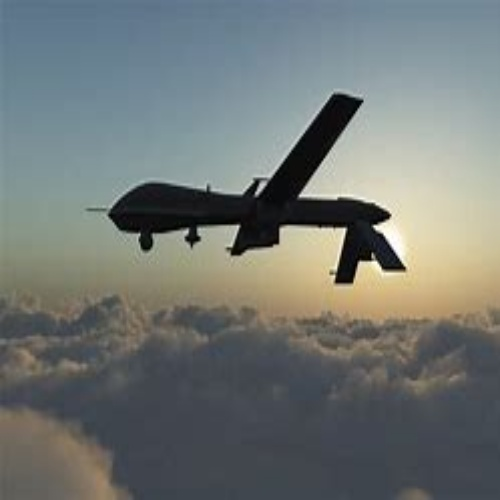uav201: (83, 86, 407, 284)
